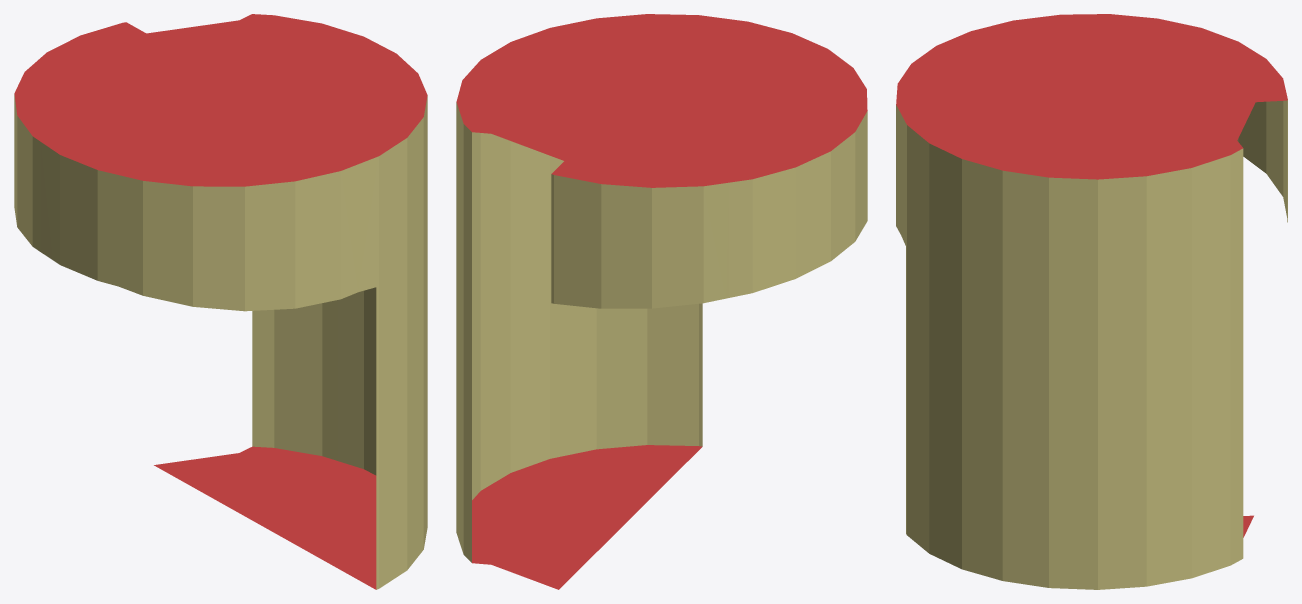
3 renders of one model, left to right at view 1: azimuth 30°, elevation 25°; view 2: azimuth 150°, elevation 25°; view 3: azimuth 270°, elevation 25°, orthographic. The views are drawn at different scales.
Size of the model in its own units: 7.97 by 7.97 by 9.21.
